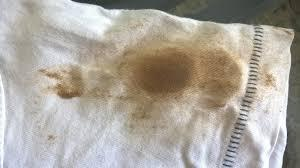earth: (131, 49, 238, 101), (53, 66, 83, 97)
